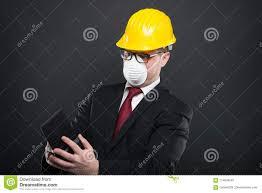Person_wearing_helmet: (112, 8, 176, 64)
